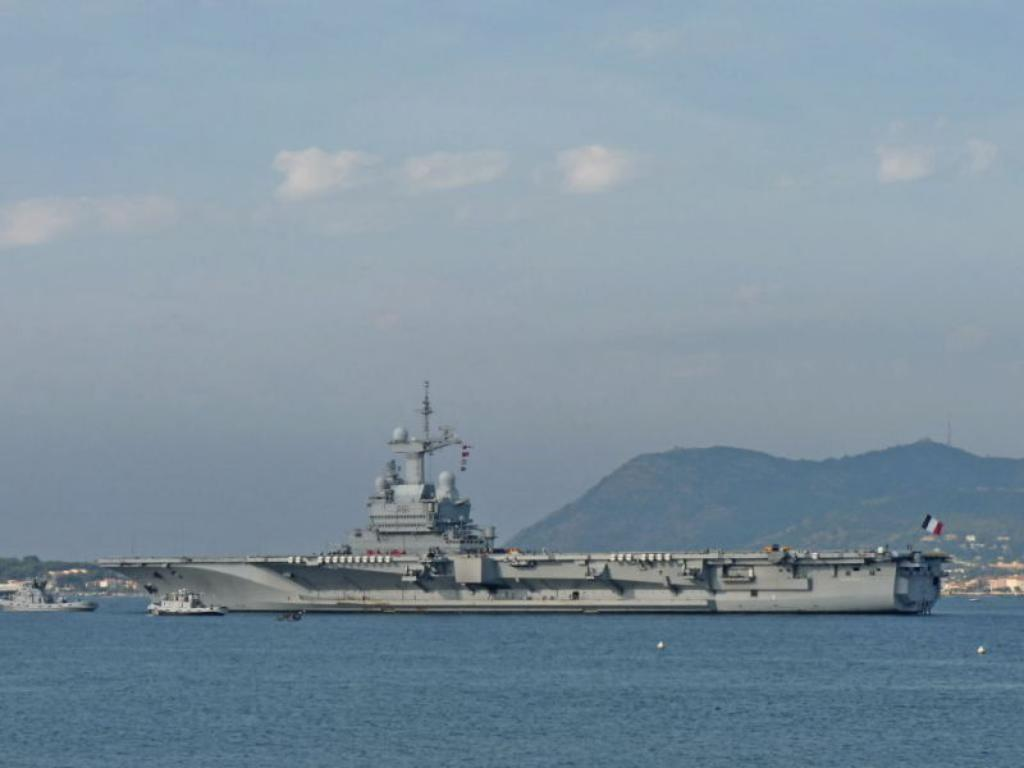Warship: (86, 374, 952, 620)
